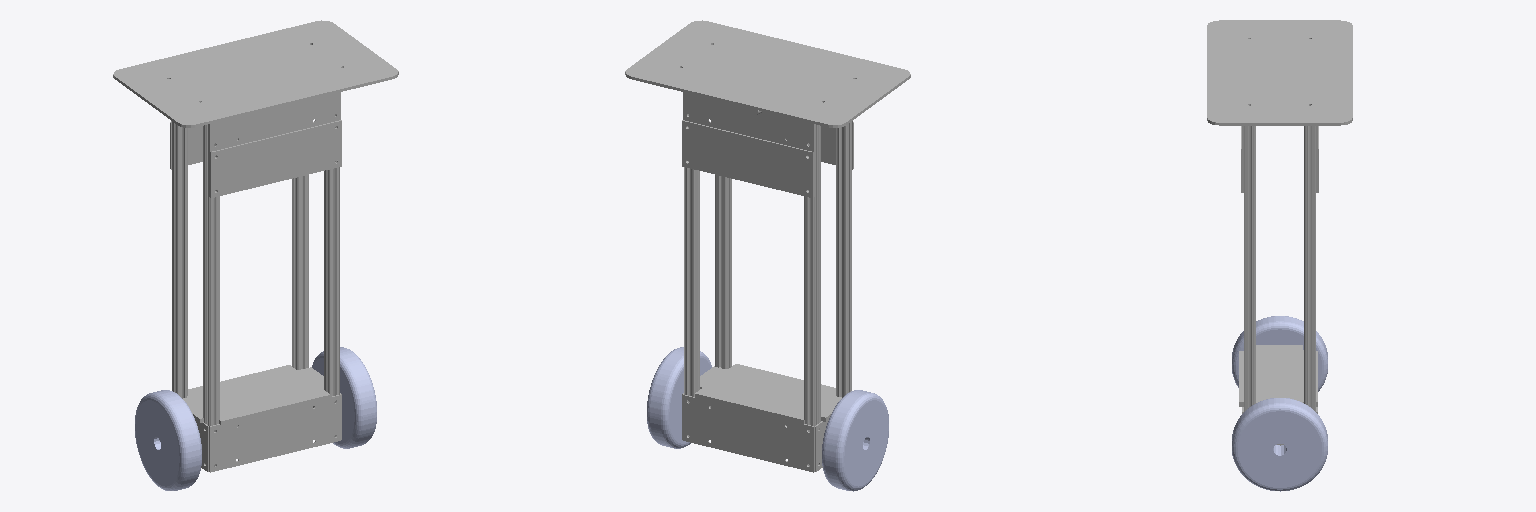
URDF robot description (robot_description):
<?xml version="1.0" encoding="utf-8"?>
<!-- This URDF was automatically created by SolidWorks to URDF Exporter! Originally created by [author] ([email redacted]) 
     Commit Version: 1.5.1-0-g916b5db  Build Version: 1.5.7152.31018
     For more information, please see http://wiki.ros.org/sw_urdf_exporter -->
<robot
  name="robot_description">
  <link
    name="base_link">
    <inertial>
      <origin
        xyz="-0.025547 0.18996 0.0012407"
        rpy="0 0 0" />
      <mass
        value="9.2197" />
      <inertia
        ixx="0.074641"
        ixy="-0.0004252"
        ixz="2.3667E-07"
        iyy="0.064328"
        iyz="2.026E-09"
        izz="0.10813" />
    </inertial>
    <visual>
      <origin
        xyz="0 0 0"
        rpy="0 0 0" />
      <geometry>
        <mesh
          filename="package://robot_description/meshes/base_link.STL" />
      </geometry>
      <material
        name="">
        <color
          rgba="0.75294 0.75294 0.75294 1" />
      </material>
    </visual>
    <collision>
      <origin
        xyz="0 0 0"
        rpy="0 0 0" />
      <geometry>
        <mesh
          filename="package://robot_description/meshes/base_link.STL" />
      </geometry>
    </collision>
  </link>
  <link
    name="wheelR">
    <inertial>
      <origin
        xyz="-1.3878E-17 -5.5511E-17 0.0254"
        rpy="0 0 0" />
      <mass
        value="0.53129" />
      <inertia
        ixx="0.0014754"
        ixy="5.421E-20"
        ixz="4.3857E-20"
        iyy="0.0014754"
        iyz="2.9588E-19"
        izz="0.0027309" />
    </inertial>
    <visual>
      <origin
        xyz="0 0 0"
        rpy="0 0 0" />
      <geometry>
        <mesh
          filename="package://robot_description/meshes/wheelR.STL" />
      </geometry>
      <material
        name="">
        <color
          rgba="0.79216 0.81961 0.93333 1" />
      </material>
    </visual>
    <collision>
      <origin
        xyz="0 0 0"
        rpy="0 0 0" />
      <geometry>
        <mesh
          filename="package://robot_description/meshes/wheelR.STL" />
      </geometry>
    </collision>
  </link>
  <joint
    name="wheelR"
    type="continuous">
    <origin
      xyz="-0.207347025920604 -0.0058042589636423 -0.433884033953984"
      rpy="1.5707963267949 -0.169516066406974 -1.5707963267949" />
    <parent
      link="base_link" />
    <child
      link="wheelR" />
    <axis
      xyz="0 0 1" />
  </joint>
  <link
    name="wheelL">
    <inertial>
      <origin
        xyz="0 5.5511E-17 -0.0254"
        rpy="0 0 0" />
      <mass
        value="0.53129" />
      <inertia
        ixx="0.0014754"
        ixy="5.421E-20"
        ixz="5.4574E-20"
        iyy="0.0014754"
        iyz="2.9588E-19"
        izz="0.0027309" />
    </inertial>
    <visual>
      <origin
        xyz="0 0 0"
        rpy="0 0 0" />
      <geometry>
        <mesh
          filename="package://robot_description/meshes/wheelL.STL" />
      </geometry>
      <material
        name="">
        <color
          rgba="0.79216 0.81961 0.93333 1" />
      </material>
    </visual>
    <collision>
      <origin
        xyz="0 0 0"
        rpy="0 0 0" />
      <geometry>
        <mesh
          filename="package://robot_description/meshes/wheelL.STL" />
      </geometry>
    </collision>
  </link>
  <joint
    name="wheelL"
    type="continuous">
    <origin
      xyz="0.148252974079396 -0.0058042589636423 -0.433884033953984"
      rpy="1.5707963267949 -0.169516066406974 -1.5707963267949" />
    <parent
      link="base_link" />
    <child
      link="wheelL" />
    <axis
      xyz="0 0 1" />
  </joint>

  <transmission name="left_motor">
    <type>transmission_interface/SimpleTransmission</type>
    <joint name="wheelL">
      <hardwareInterface>hardware_interface/EffortJointInterface</hardwareInterface>
    </joint>
    <actuator name="motor1">
      <hardwareInterface>hardware_interface/EffortJointInterface</hardwareInterface>
      <mechanicalReduction>1</mechanicalReduction>
    </actuator>
  </transmission>

  <transmission name="right_motor">
    <type>transmission_interface/SimpleTransmission</type>
    <joint name="wheelR">
      <hardwareInterface>hardware_interface/EffortJointInterface</hardwareInterface>
    </joint>
    <actuator name="motor1">
      <hardwareInterface>hardware_interface/EffortJointInterface</hardwareInterface>
      <mechanicalReduction>1</mechanicalReduction>
    </actuator>
  </transmission>

  <gazebo>
    <plugin name="gazebo_ros_control" filename="libgazebo_ros_control.so">
      <robotNamespace>/roboassistant</robotNamespace>
    </plugin>
  </gazebo>

  <gazebo reference="base_link">
    <gravity>true</gravity>
    <sensor name="imu_sensor" type="imu">
      <always_on>true</always_on>
      <update_rate>100</update_rate>
      <visualize>true</visualize>
      <topic>/roboassistant/imu</topic>
      <plugin filename="libgazebo_ros_imu_sensor.so" name="imu_plugin">
        <topicName>/roboassistant/imu</topicName>
        <bodyName>base_link</bodyName>
        <updateRateHZ>100.0</updateRateHZ>
        <gaussianNoise>0.0</gaussianNoise>
        <xyzOffset>0 0 0</xyzOffset>
        <rpyOffset>0 0 0</rpyOffset>
        <frameName>base_link</frameName>
      </plugin>
      <pose>0 0 0 0 0 0</pose>
    </sensor>
  </gazebo>
</robot>

--- What the picture shows (computed from the rendered views, not written in the file) ---
Views: 3 orthographic renders of the robot side by side, from view 1: azimuth 30°, elevation 25°; view 2: azimuth 150°, elevation 25°; view 3: azimuth 270°, elevation 25°.
Model robot_description with 3 links and 2 joints (2 continuous), rooted at base_link, posed all joints at 0.
Visible links, largest first — view 1: base_link, wheelR, wheelL; view 2: base_link, wheelR, wheelL; view 3: base_link, wheelL, wheelR.
Boxes of the visible links, x1,y1,x2,y2 form: base_link: [113, 20, 398, 472]; wheelR: [135, 390, 201, 490]; wheelL: [312, 347, 376, 448]; base_link: [625, 20, 910, 472]; wheelR: [822, 390, 888, 491]; wheelL: [647, 347, 711, 448]; base_link: [1207, 20, 1352, 445]; wheelL: [1232, 398, 1327, 491]; wheelR: [1232, 316, 1327, 391].
Size in the robot's own frame: 0.508 by 0.3048 by 0.8699 metres.
3 mesh visuals loaded from 3 distinct referenced files (3 binary STL).